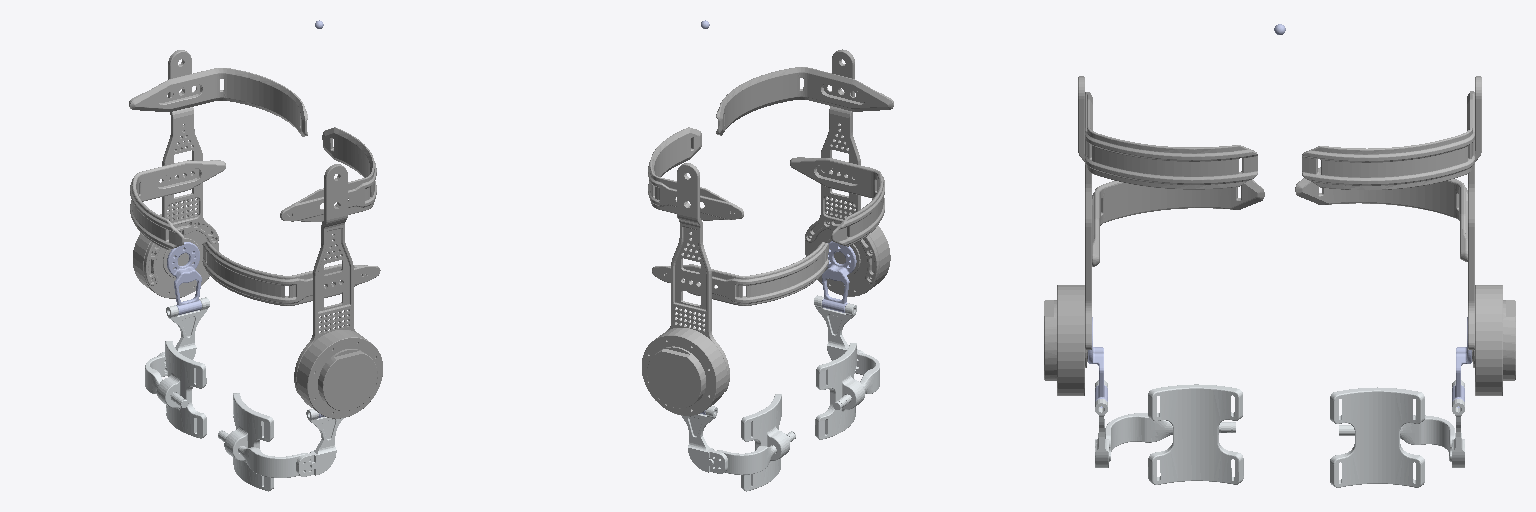
robot.urdf — Test5:
<?xml version="1.0" encoding="utf-8"?>
<!-- This URDF was automatically created by SolidWorks to URDF Exporter! Originally created by [author] ([email redacted]) 
     Commit Version: 1.6.0-4-g7f85cfe  Build Version: 1.6.7995.38578
     For more information, please see http://wiki.ros.org/sw_urdf_exporter -->
<robot
  name="Test5">
  <mujoco>
        <compiler meshdir="../meshes/" balanceinertia="true" discardvisual="false"/>
  </mujoco>
  <link name = "ground">
		<inertial>
			<origin xyz="0 0 0" rpy="0 0 0"/>
			<mass value = "1e-06" />
			<inertia ixx="1e-06" ixy="0" ixz="0" iyy ="1e-06" iyz ="0" izz="1e-06" />
		</inertial>
	</link>
  <link
    name="exo_waist">
    <inertial>
      <origin
        xyz="0.079 0.177 0.3375"
        rpy="0 0 0" />
      <mass
        value="0.0005236" />
      <inertia
        ixx="5.236E-09"
        ixy="0"
        ixz="0"
        iyy="5.236E-09"
        iyz="0"
        izz="5.236E-09" />
    </inertial>
    <visual>
      <origin
        xyz="0 0 0"
        rpy="0 0 0" />
      <geometry>
        <mesh
          filename="exo_waist.STL" />
      </geometry>
      <material
        name="">
        <color
          rgba="0.79216 0.81961 0.93333 1" />
      </material>
    </visual>
    <collision>
      <origin
        xyz="0 0 0"
        rpy="0 0 0" />
      <geometry>
        <mesh
          filename="exo_waist.STL" />
      </geometry>
    </collision>
  </link>
  <link
    name="frame_left">
    <inertial>
      <origin
        xyz="0.010792 0.13511 0.00025005"
        rpy="0 0 0" />
      <mass
        value="0.44855" />
      <inertia
        ixx="0.0010741"
        ixy="-1.3998E-05"
        ixz="2.9315E-05"
        iyy="0.00062914"
        iyz="-2.9539E-05"
        izz="0.00097039" />
    </inertial>
    <visual>
      <origin
        xyz="0 0 0"
        rpy="0 0 0" />
      <geometry>
        <mesh
          filename="frame_left.STL" />
      </geometry>
      <material
        name="">
        <color
          rgba="0.69804 0.69804 0.69804 1" />
      </material>
    </visual>
    <collision>
      <origin
        xyz="0 0 0"
        rpy="0 0 0" />
      <geometry>
        <mesh
          filename="frame_left.STL" />
      </geometry>
    </collision>
  </link>
  
  <link
    name="actuator_sagittal_left">
    <inertial>
      <origin
        xyz="-5.6671E-10 -0.021654 0.0062939"
        rpy="0 0 0" />
      <mass
        value="0.010875" />
      <inertia
        ixx="6.1104E-06"
        ixy="-4.8569E-13"
        ixz="1.0818E-12"
        iyy="1.329E-06"
        iyz="8.951E-07"
        izz="6.9221E-06" />
    </inertial>
    <visual>
      <origin
        xyz="0 0 0"
        rpy="0 0 0" />
      <geometry>
        <mesh
          filename="actuator_sagittal_left.STL" />
      </geometry>
      <material
        name="">
        <color
          rgba="0.79216 0.81961 0.93333 1" />
      </material>
    </visual>
    <collision>
      <origin
        xyz="0 0 0"
        rpy="0 0 0" />
      <geometry>
        <mesh
          filename="actuator_sagittal_left.STL" />
      </geometry>
    </collision>
  </link>
  
  <link
    name="actuator_frontal_left">
    <inertial>
      <origin
        xyz="0.066047 -0.055176 0.046297"
        rpy="0 0 0" />
      <mass
        value="0.11516" />
      <inertia
        ixx="8.9025E-05"
        ixy="6.1397E-06"
        ixz="-2.6886E-06"
        iyy="4.0733E-05"
        iyz="1.2054E-10"
        izz="7.557E-05" />
    </inertial>
    <visual>
      <origin
        xyz="0 0 0"
        rpy="0 0 0" />
      <geometry>
        <mesh
          filename="actuator_frontal_left.STL" />
      </geometry>
      <material
        name="">
        <color
          rgba="0.89804 0.91765 0.92941 1" />
      </material>
    </visual>
    <collision>
      <origin
        xyz="0 0 0"
        rpy="0 0 0" />
      <geometry>
        <mesh
          filename="actuator_frontal_left.STL" />
      </geometry>
    </collision>
  </link>
  
  <link
    name="frame_right">
    <inertial>
      <origin
        xyz="-0.00015851 -0.069818 0.010792"
        rpy="0 0 0" />
      <mass
        value="0.44855" />
      <inertia
        ixx="0.00097097"
        ixy="-2.4704E-05"
        ixz="2.9468E-05"
        iyy="0.00062857"
        iyz="-1.469E-05"
        izz="0.0010741" />
    </inertial>
    <visual>
      <origin
        xyz="0 0 0"
        rpy="0 0 0" />
      <geometry>
        <mesh
          filename="frame_right.STL" />
      </geometry>
      <material
        name="">
        <color
          rgba="0.75294 0.75294 0.75294 1" />
      </material>
    </visual>
    <collision>
      <origin
        xyz="0 0 0"
        rpy="0 0 0" />
      <geometry>
        <mesh
          filename="frame_right.STL" />
      </geometry>
    </collision>
  </link>
  
  <link
    name="actuator_sagittal_right">
    <inertial>
      <origin
        xyz="-7.9565E-10 -0.021654 0.0072939"
        rpy="0 0 0" />
      <mass
        value="0.010875" />
      <inertia
        ixx="6.1104E-06"
        ixy="-5.0996E-13"
        ixz="1.0863E-12"
        iyy="1.329E-06"
        iyz="8.951E-07"
        izz="6.9221E-06" />
    </inertial>
    <visual>
      <origin
        xyz="0 0 0"
        rpy="0 0 0" />
      <geometry>
        <mesh
          filename="actuator_sagittal_right.STL" />
      </geometry>
      <material
        name="">
        <color
          rgba="0.79216 0.81961 0.93333 1" />
      </material>
    </visual>
    <collision>
      <origin
        xyz="0 0 0"
        rpy="0 0 0" />
      <geometry>
        <mesh
          filename="actuator_sagittal_right.STL" />
      </geometry>
    </collision>
  </link>
  
  <link
    name="actuator_frontal_right">
    <inertial>
      <origin
        xyz="-0.06261 -0.055102 0.040094"
        rpy="0 0 0" />
      <mass
        value="0.11311" />
      <inertia
        ixx="8.7018E-05"
        ixy="-6.3834E-06"
        ixz="1.7503E-06"
        iyy="3.7993E-05"
        iyz="-2.0699E-10"
        izz="7.4683E-05" />
    </inertial>
    <visual>
      <origin
        xyz="0 0 0"
        rpy="0 0 0" />
      <geometry>
        <mesh
          filename="actuator_frontal_right.STL" />
      </geometry>
      <material
        name="">
        <color
          rgba="0.89804 0.91765 0.92941 1" />
      </material>
    </visual>
    <collision>
      <origin
        xyz="0 0 0"
        rpy="0 0 0" />
      <geometry>
        <mesh
          filename="actuator_frontal_right.STL" />
      </geometry>
    </collision>
  </link>

  <joint name="ground_exo_waist" type="prismatic">
		<origin xyz="0  0  0" rpy="0  -0  0"/>
		<parent link="ground"/>
		<child link="exo_waist"/>
		<axis xyz="1  0  0"/>
		<limit lower="-1" upper="2" effort="1e2" velocity="1e2"/>
	</joint>
  <joint
    name="frame_joint_right"
    type="fixed">
    <origin
      xyz="0 0.354 0"
      rpy="-1.5708 0 3.1416" />
    <parent
      link="exo_waist" />
    <child
      link="frame_right" />
    <axis
      xyz="0 0 0" />
  </joint>
  <joint
    name="frame_joint_left"
    type="fixed">
    <origin
      xyz="0 0 0.205"
      rpy="-1.5814 0 1.5708" />
    <parent
      link="exo_waist" />
    <child
      link="frame_left" />
    <axis
      xyz="0 0 0" />
  </joint>
  <joint
    name="actuator_frontal_joint_right"
    type="revolute">
    <origin
      xyz="0.025 -0.055 0.0115"
      rpy="0 0 0" />
    <parent
      link="actuator_sagittal_right" />
    <child
      link="actuator_frontal_right" />
    <axis
      xyz="1 0 0" />
    <limit
      lower="-1.5708"
      upper="1.5708"
      effort="100"
      velocity="100" />
  </joint>
  <joint
    name="actuator_frontal_joint_left"
    type="revolute">
    <origin
      xyz="-0.025 -0.055 0.0105"
      rpy="-0.0050339 0 0" />
    <parent
      link="actuator_sagittal_left" />
    <child
      link="actuator_frontal_left" />
    <axis
      xyz="1 0 0" />
    <limit
      lower="-1.5708"
      upper="1.5708"
      effort="100"
      velocity="100" />
  </joint>
  <joint
    name="actuator_sagittal_joint_right"
    type="revolute">
    <origin
      xyz="0 0 0.009"
      rpy="0 0 -3.1358" />
    <parent
      link="frame_right" />
    <child
      link="actuator_sagittal_right" />
    <axis
      xyz="0 0 1" />
    <limit
      lower="-1.5708"
      upper="1.5708"
      effort="100"
      velocity="100" />
  </joint>
  <joint
    name="actuator_sagittal_joint_left"
    type="revolute">
    <origin
      xyz="0.01 0.20499 0.0021794"
      rpy="-1.5708 -1.5659 -1.5708" />
    <parent
      link="frame_left" />
    <child
      link="actuator_sagittal_left" />
    <axis
      xyz="0 0 1" />
    <limit
      lower="-1.5708"
      upper="1.5708"
      effort="100"
      velocity="100" />
  </joint>
</robot>

--- What the picture shows (computed from the rendered views, not written in the file) ---
The picture shows the robot from 3 angles, left to right: view 1: azimuth 30°, elevation 25°; view 2: azimuth 150°, elevation 25°; view 3: azimuth 270°, elevation 25°; orthographic projection.
Model Test5 with 8 links and 7 joints (4 revolute, 1 prismatic, 2 fixed), rooted at ground, posed every joint at zero.
Links seen in each view (by area): view 1: frame_left, frame_right, actuator_frontal_left, actuator_frontal_right, actuator_sagittal_right; view 2: frame_right, frame_left, actuator_frontal_right, actuator_frontal_left, actuator_sagittal_left; view 3: frame_left, frame_right, actuator_frontal_left, actuator_frontal_right, actuator_sagittal_left, actuator_sagittal_right.
Boxes of the visible links, left/top/right/bottom form: frame_left: left=202, top=127, right=382, bottom=418; frame_right: left=129, top=50, right=307, bottom=298; actuator_frontal_left: left=218, top=393, right=343, bottom=491; actuator_frontal_right: left=145, top=297, right=209, bottom=438; actuator_sagittal_right: left=167, top=242, right=201, bottom=314; frame_right: left=642, top=127, right=828, bottom=415; frame_left: left=716, top=49, right=893, bottom=296; actuator_frontal_right: left=681, top=394, right=795, bottom=491; actuator_frontal_left: left=814, top=295, right=879, bottom=439; actuator_sagittal_left: left=822, top=241, right=856, bottom=312; frame_left: left=1044, top=76, right=1264, bottom=395; frame_right: left=1295, top=76, right=1515, bottom=395; actuator_frontal_left: left=1095, top=380, right=1243, bottom=484; actuator_frontal_right: left=1330, top=380, right=1464, bottom=487; actuator_sagittal_left: left=1088, top=317, right=1107, bottom=407; actuator_sagittal_right: left=1452, top=317, right=1471, bottom=407.
Size in the robot's own frame: 0.1918 by 0.413 by 0.5043 metres.
Meshes: 7 distinct files referenced, 7 mesh visuals loaded (7 binary STL).